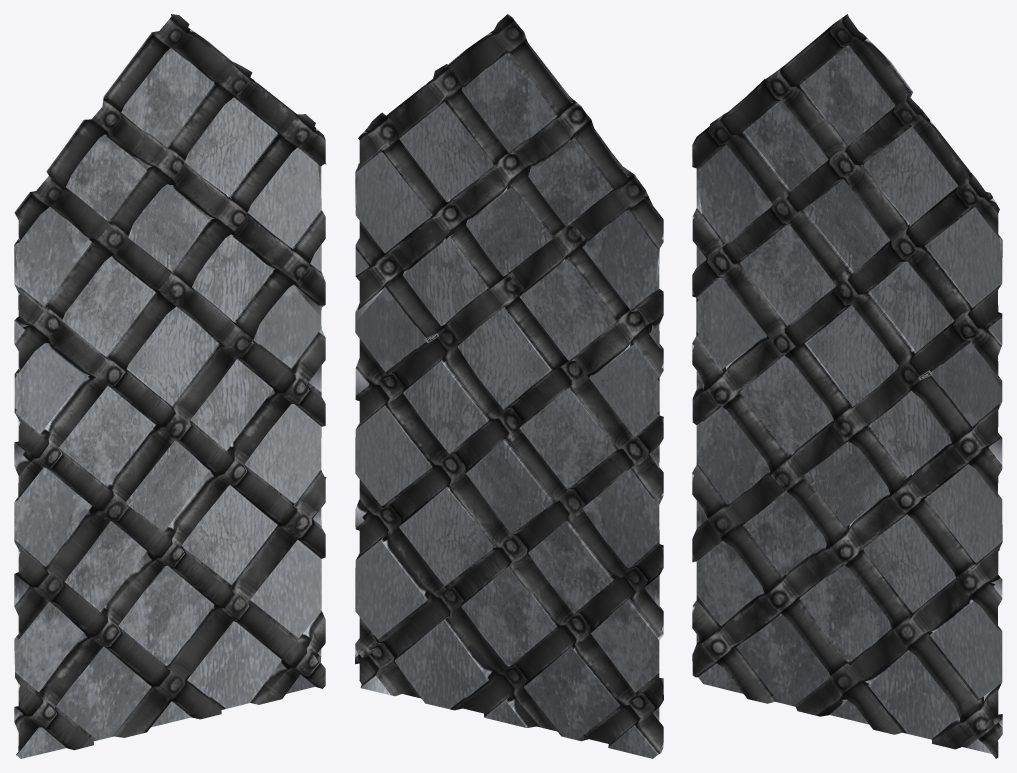
Rendered from Glass 3 Diagonal Point.FBX.
The picture shows the model from 3 angles, left to right: view 1: azimuth 30°, elevation 25°; view 2: azimuth 150°, elevation 25°; view 3: azimuth 330°, elevation 25°; orthographic projection.
Parts seen in each view (by area): view 1: Glass 3 Diagonal Point; view 2: Glass 3 Diagonal Point; view 3: Glass 3 Diagonal Point.
Part boxes in pixels (box(x1,y1,x2,y2)): Glass 3 Diagonal Point: box(14, 14, 326, 758); Glass 3 Diagonal Point: box(355, 14, 663, 758); Glass 3 Diagonal Point: box(692, 14, 1002, 758).
Size of the model in its own units: 43.71 by 1.96 by 96.31.
1 material, 1 textured.
